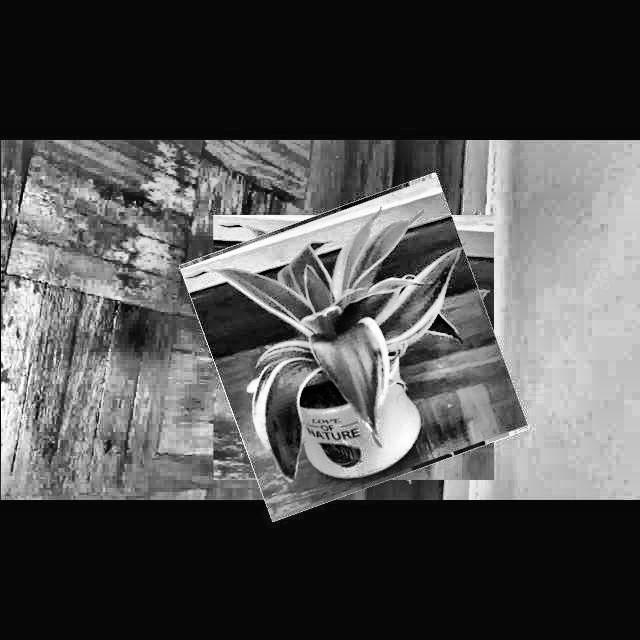plants: (198, 192, 510, 504)
